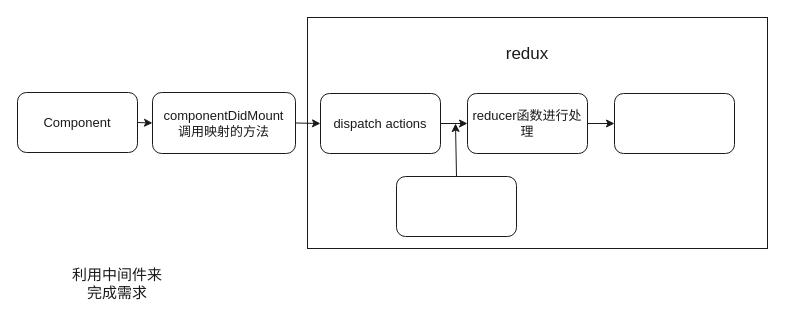
Some shapes in this 785 by 322 pixel diagram are drawn without their labels. The centre of each missing label's shape, as x and y in pixels:
"修改store里的state" goes at pixel 674 123.
"发送网络请求等操作" goes at pixel 456 206.
